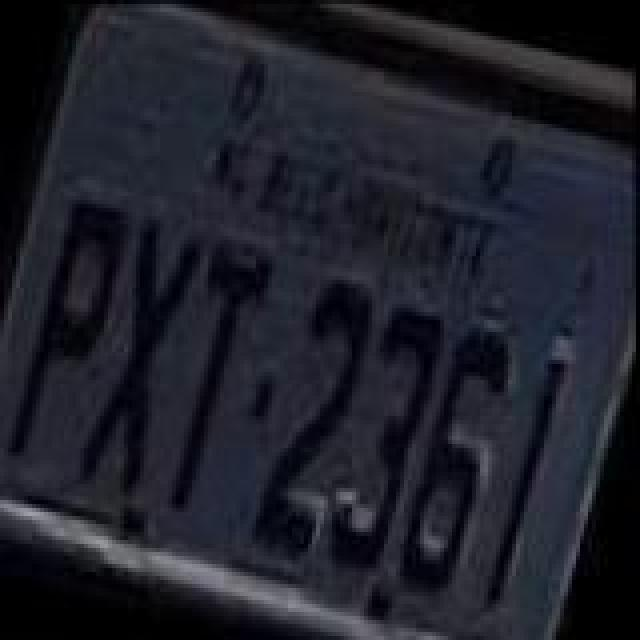1: (472, 348, 576, 620)
2: (242, 266, 394, 570)
3: (316, 288, 460, 584)
6: (384, 310, 528, 610)
P: (0, 184, 140, 480)
T: (140, 232, 284, 528)
X: (66, 208, 214, 504)
